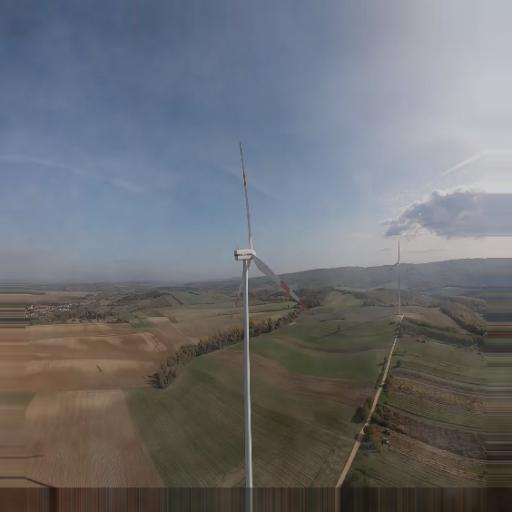wind turbine: (232, 140, 309, 494)
